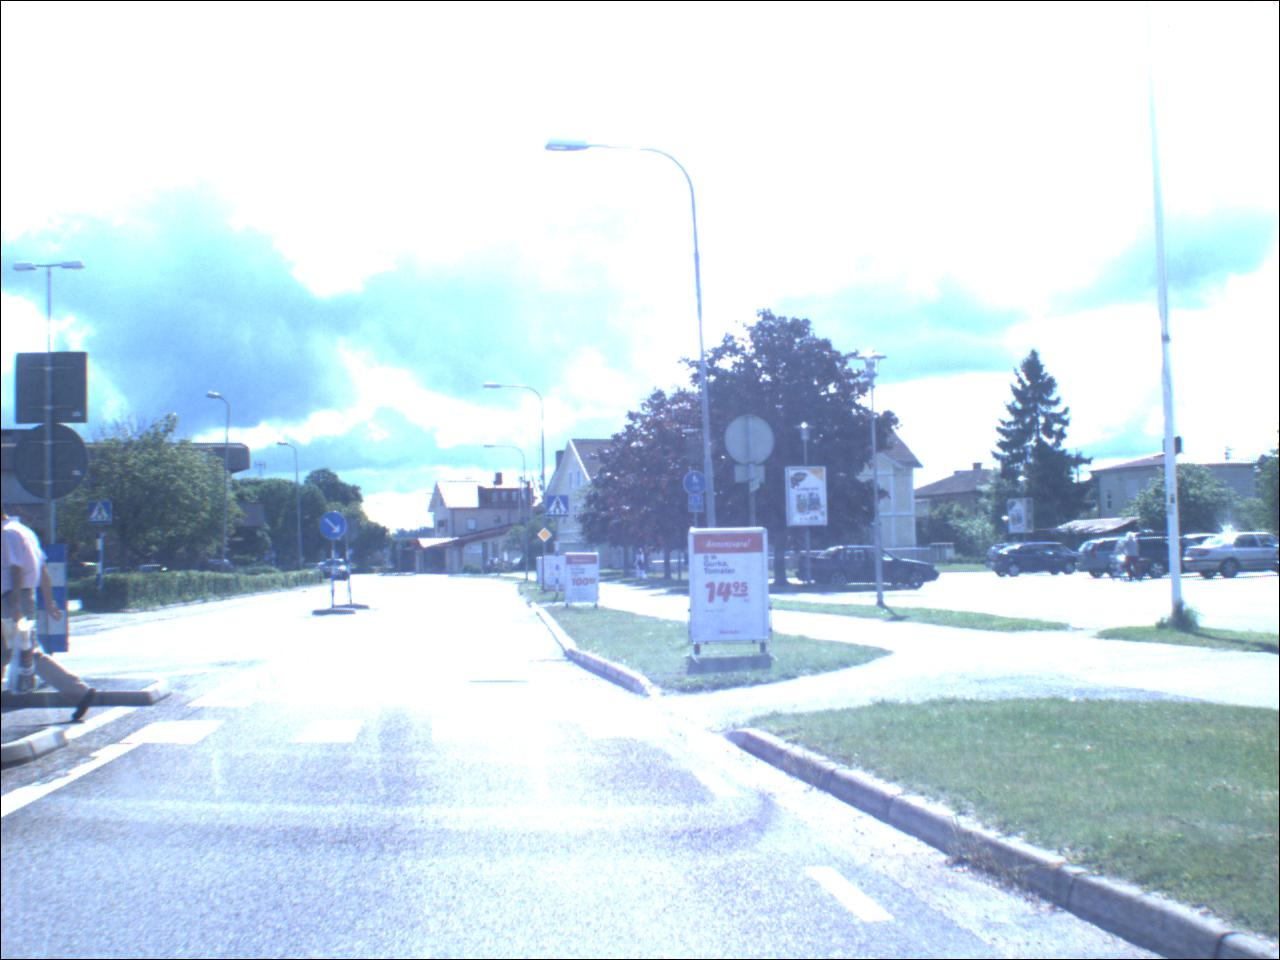PASS_RIGHT_SIDE: (321, 513, 350, 542)
PEDESTRIAN_CROSSING: (91, 504, 115, 526), (548, 498, 570, 520)
PRIORITY_ROAD: (539, 529, 555, 545)
